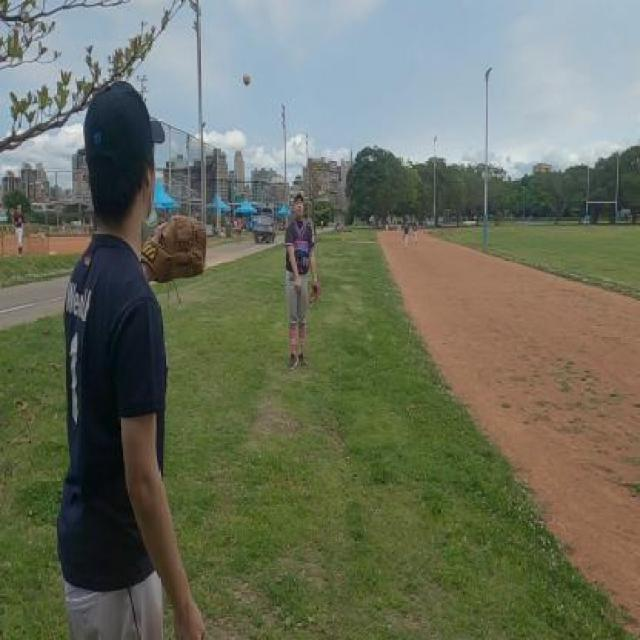baseball: (243, 71, 251, 86)
